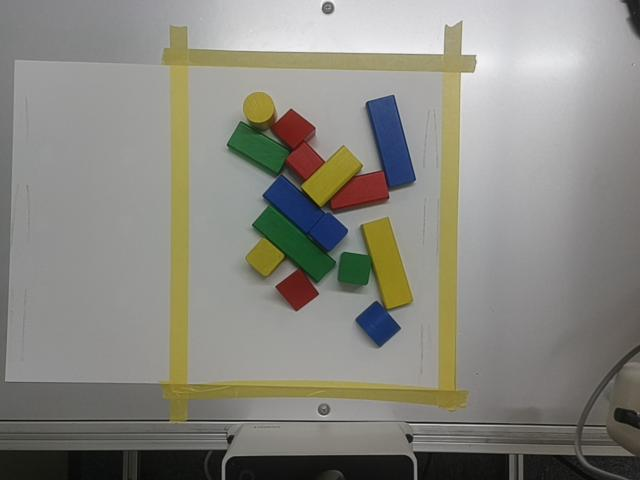blue_cube: (305, 213, 347, 251)
blue_longrect: (366, 95, 415, 187)
blue_rect: (264, 176, 324, 233)
cylinder: (243, 92, 276, 130)
green_cube: (338, 252, 371, 285)
green_longrect: (253, 205, 334, 281)
green_rect: (227, 122, 289, 173)
half_cylinder: (356, 301, 400, 346)
red_cube: (286, 142, 324, 182)
red_rect: (331, 171, 388, 210)
triangle: (271, 109, 315, 149), (276, 269, 318, 310)
yellow_cube: (246, 238, 284, 276)
yellow_longrect: (361, 218, 412, 308)
yelow_rect: (301, 146, 362, 207)
